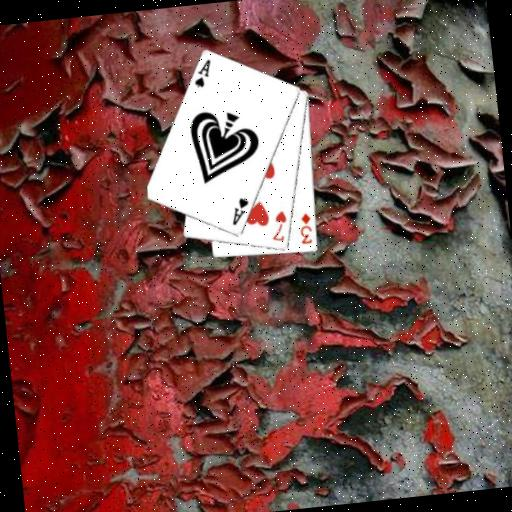3D: (296, 210, 315, 246)
7H: (267, 207, 291, 244)
AS: (189, 56, 215, 90), (227, 195, 252, 228)
